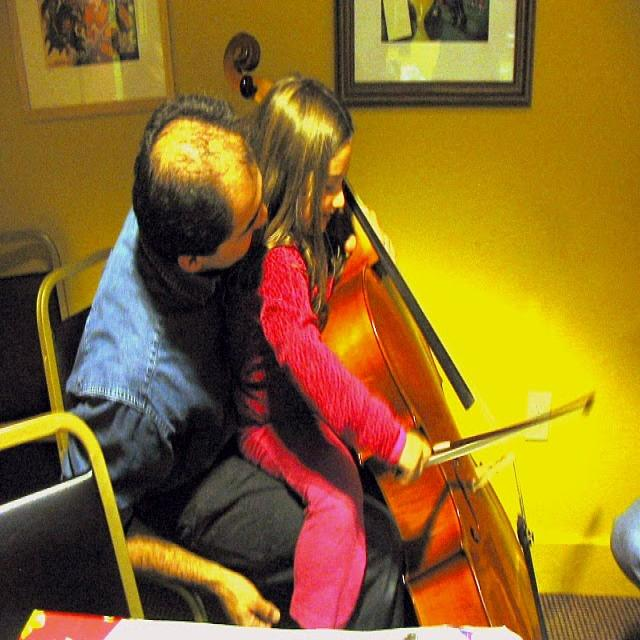cello: (224, 36, 550, 640)
